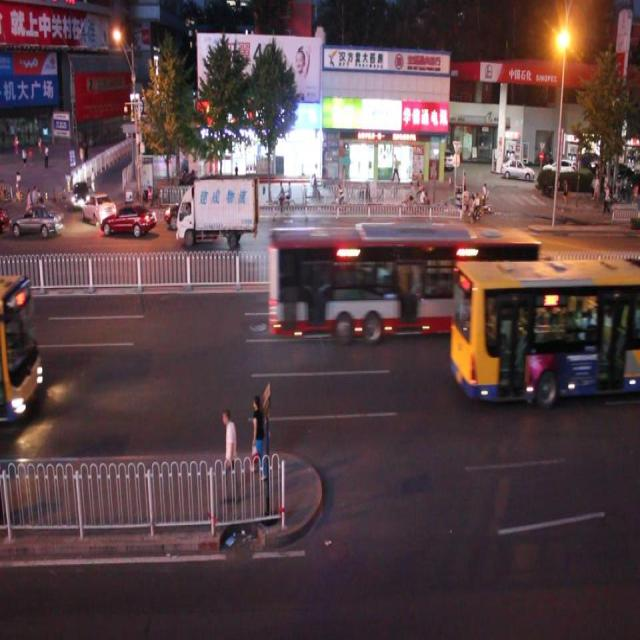bus: (174, 179, 259, 245)
car: (166, 185, 223, 232), (11, 202, 65, 241), (102, 205, 156, 238), (84, 192, 117, 226), (71, 180, 92, 212)
van: (266, 222, 537, 336), (449, 255, 640, 394), (1, 274, 43, 422)
